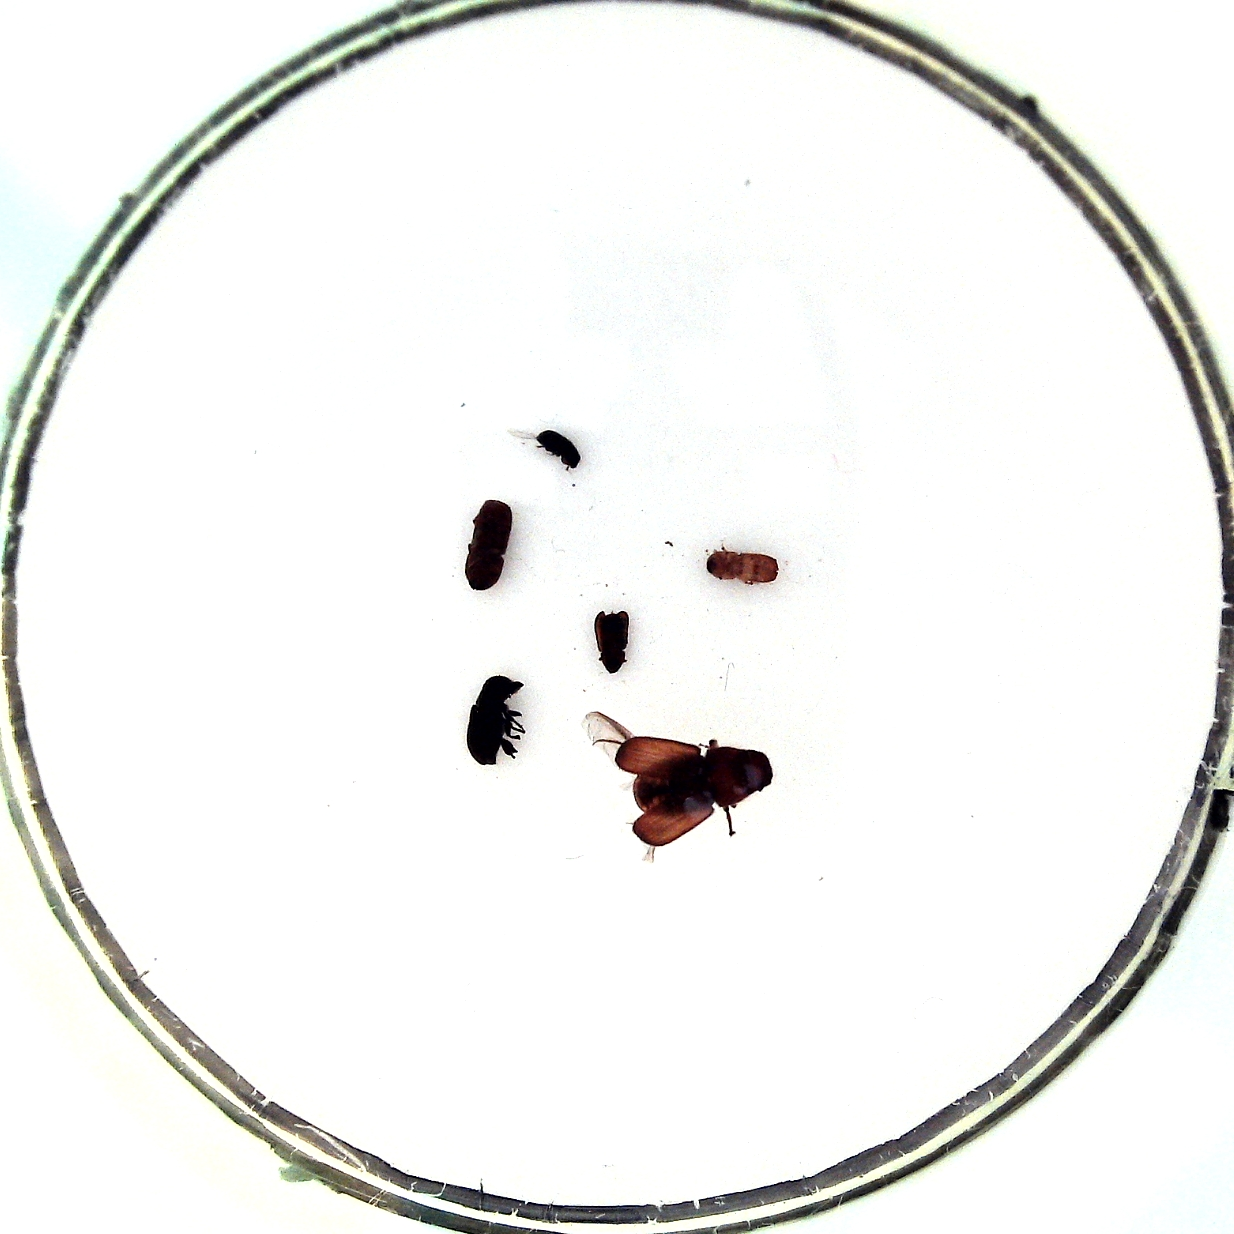Leconte: (633, 747, 774, 820)
acuminatus: (536, 429, 580, 469)
armandi: (466, 676, 525, 766)
coleoptera: (706, 550, 779, 586), (594, 610, 628, 674)
linnaeus: (464, 499, 512, 590)
